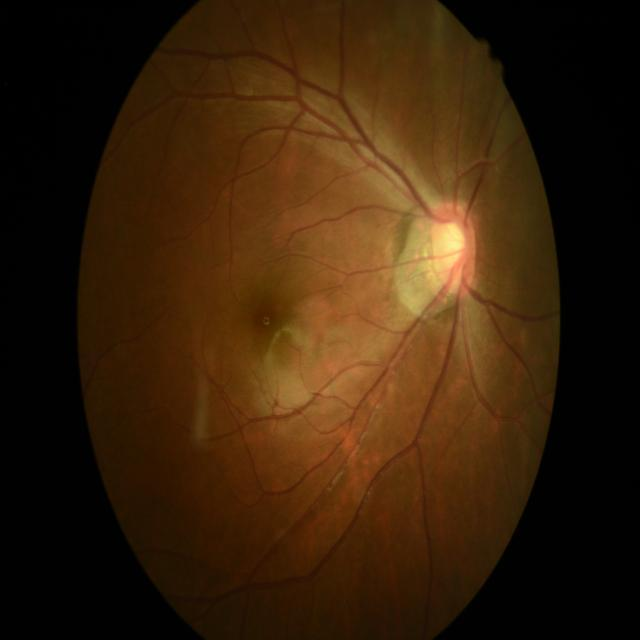cup: (432, 224, 466, 285)
disk: (427, 198, 477, 296)
